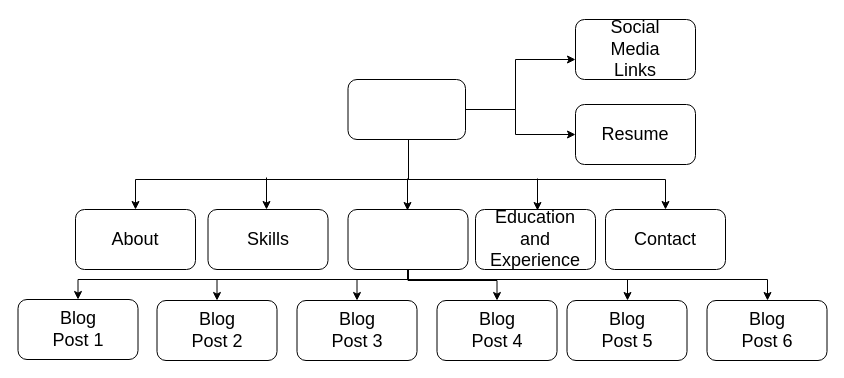
Some shapes in this 844 by 378 pixel diagram are drawn without their labels. The shapes that lost their labels are listed below. From the top down, each one's centre as x and y in pixels, then its label:
pixel 406 109: Index
pixel 407 239: Blog
